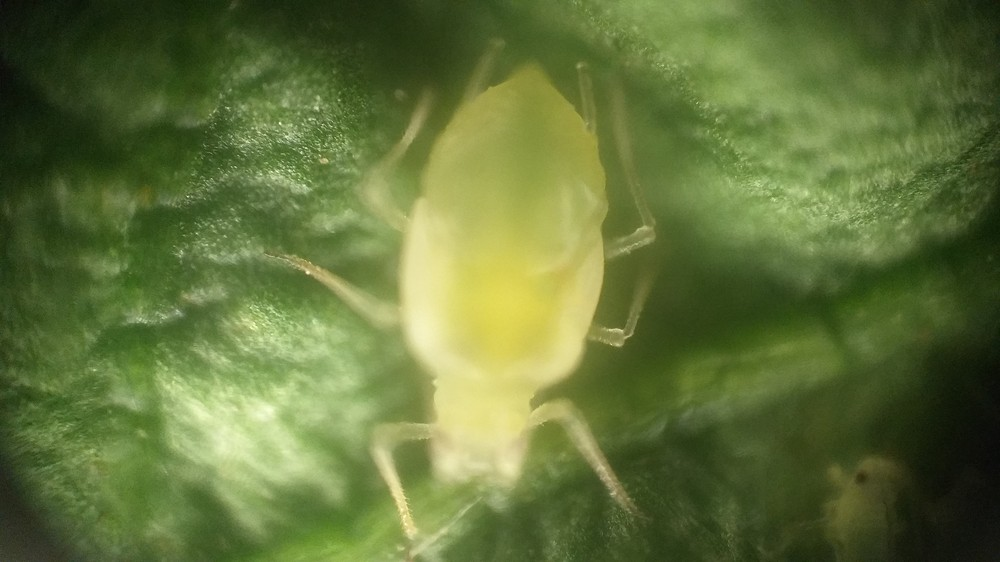Pulgon: (285, 40, 701, 541)
